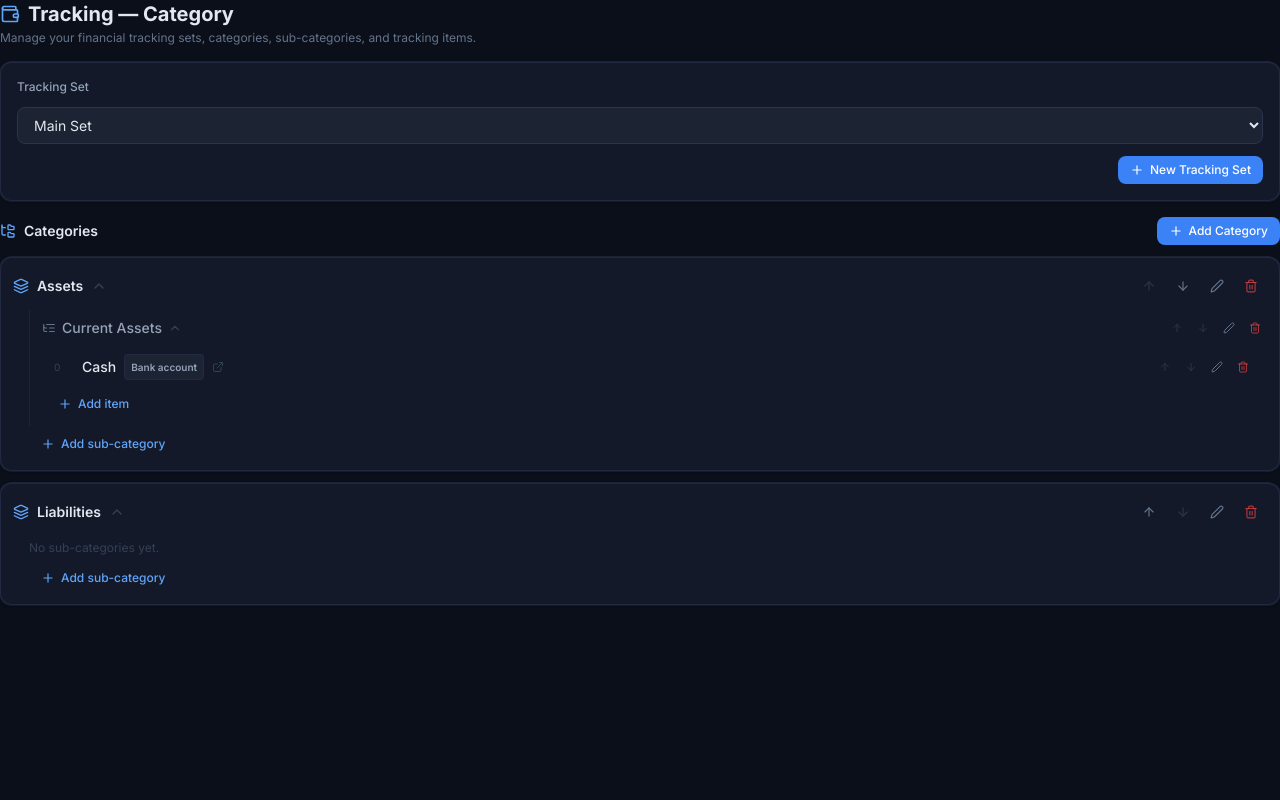
Test: TrackingCategoryPage — create tracking set › shows the backend error inline and keeps the modal open on failure
Expected: the text "Assets" is shown, [37,276,83,296]
Click the button "New Tracking Set" at (1190, 170), box [1118,156,1263,184]
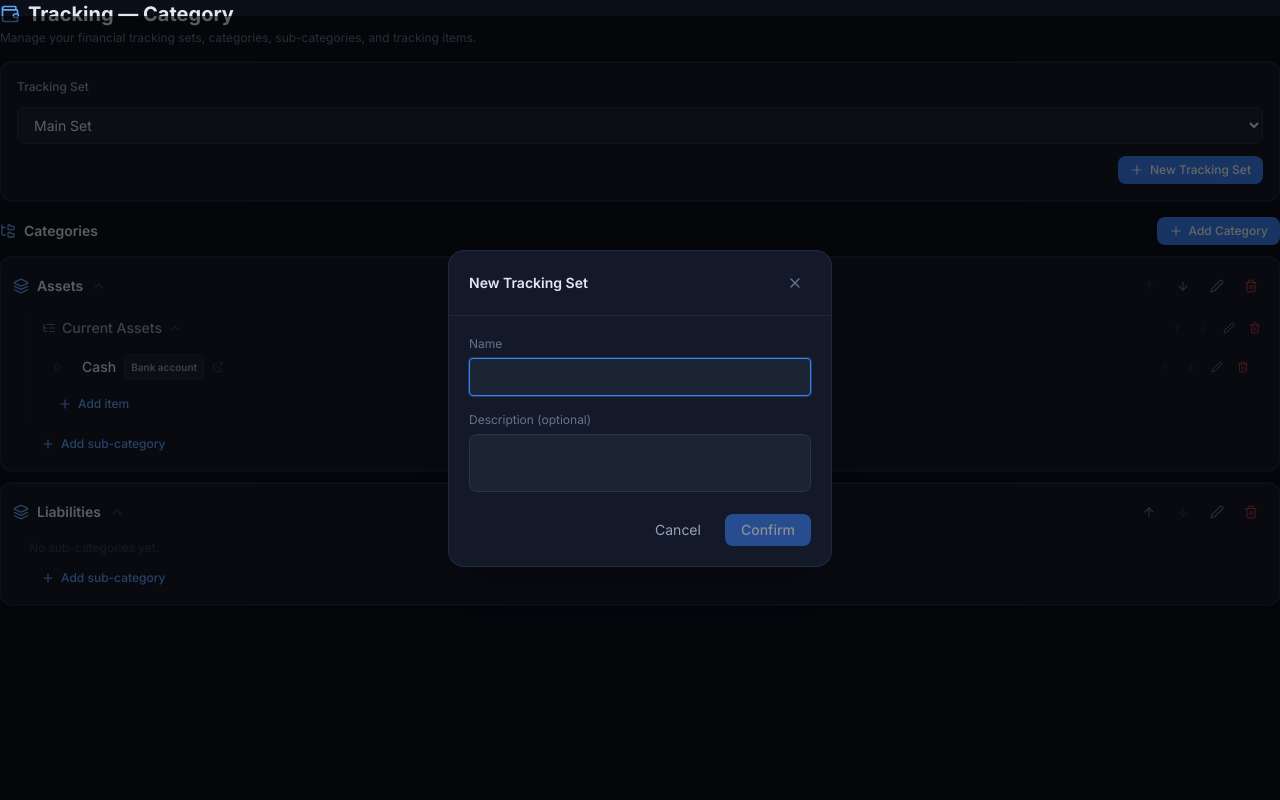
Type "Main Set" into the field labelled "Name" at (640, 376), box [469,358,811,396]
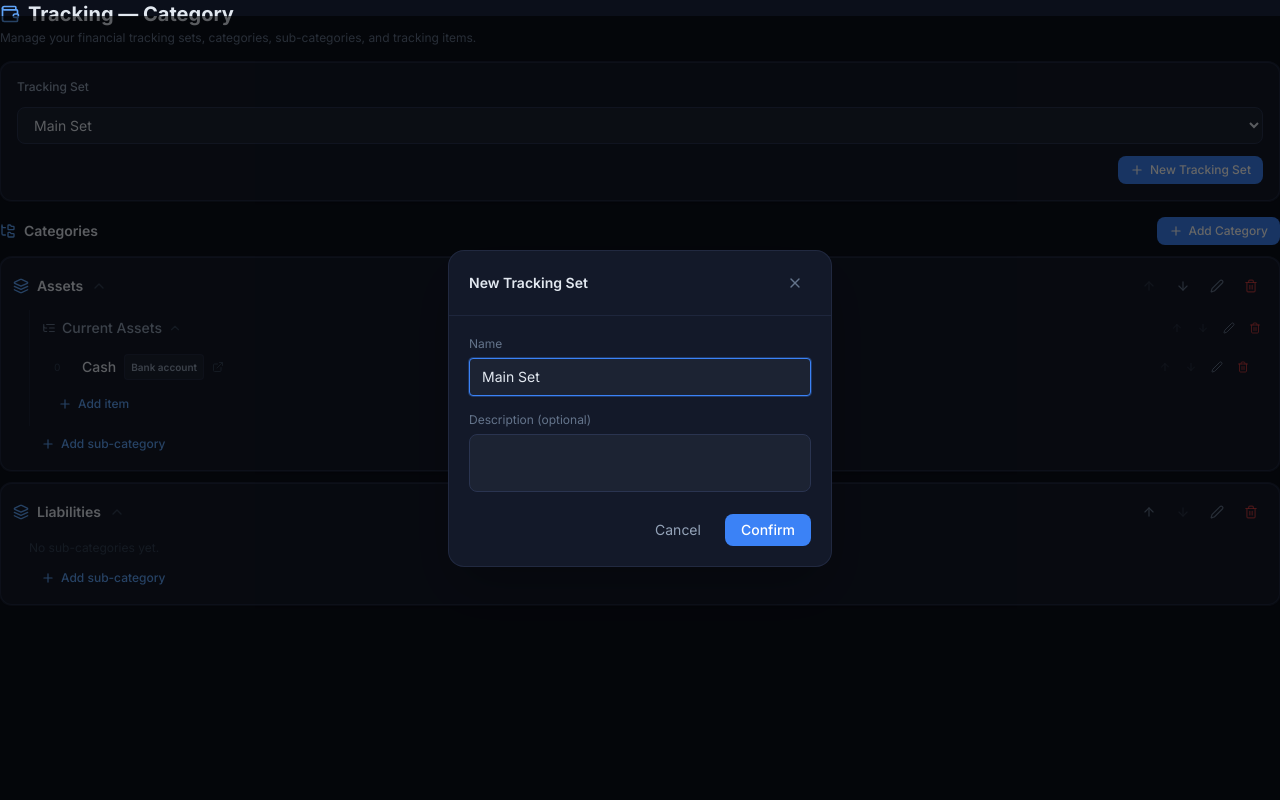
Click the button "Confirm" at (768, 530), box [725,514,811,546]
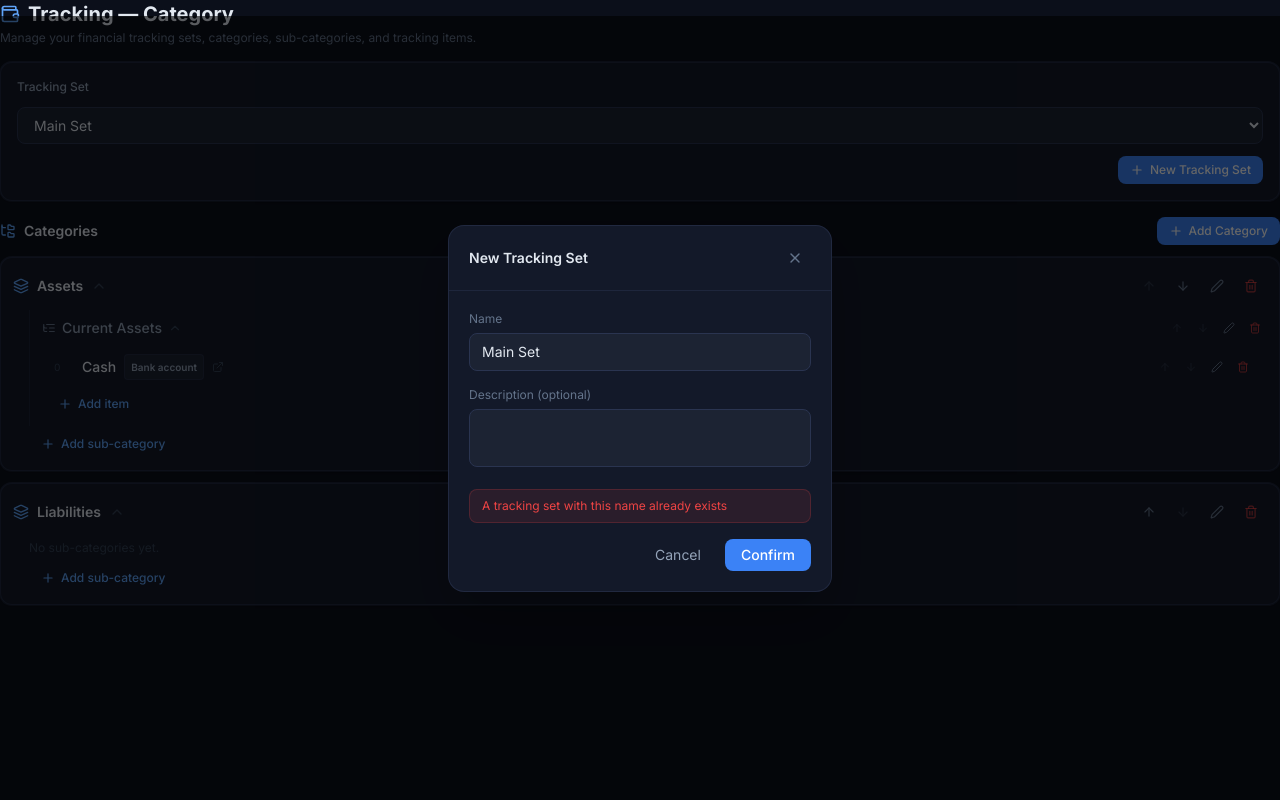
Expected: the text "A tracking set with this name already exists" is shown, [469,488,811,522]
